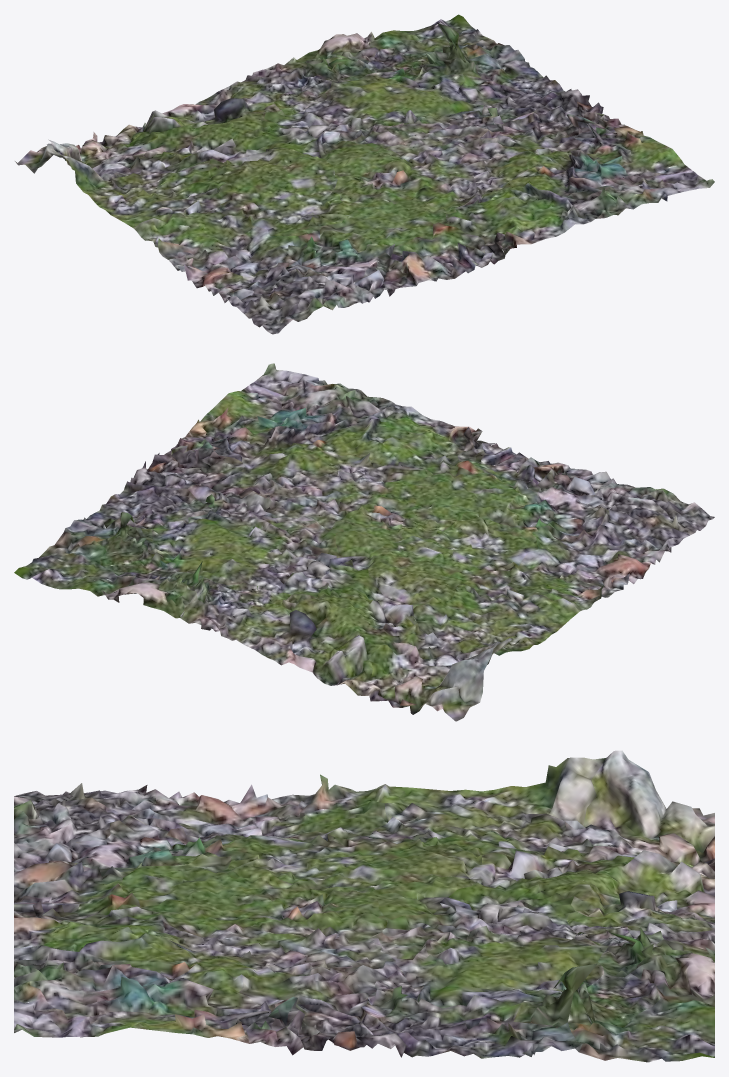
3 views of the same model, one above another, from view 1: azimuth 30°, elevation 25°; view 2: azimuth 150°, elevation 25°; view 3: azimuth 270°, elevation 25° (orthographic). The views are drawn at different scales.
Parts seen in each view (by area): view 1: ground_moss_1-10k; view 2: ground_moss_1-10k; view 3: ground_moss_1-10k.
Boxes of the visible parts, x1=… form: ground_moss_1-10k: x1=15, y1=14, x2=714, y2=334; ground_moss_1-10k: x1=14, y1=363, x2=714, y2=721; ground_moss_1-10k: x1=14, y1=750, x2=714, y2=1062.
Bounding box in the file's own units: 4830 × 891 × 4830.
1 material, 1 textured.
